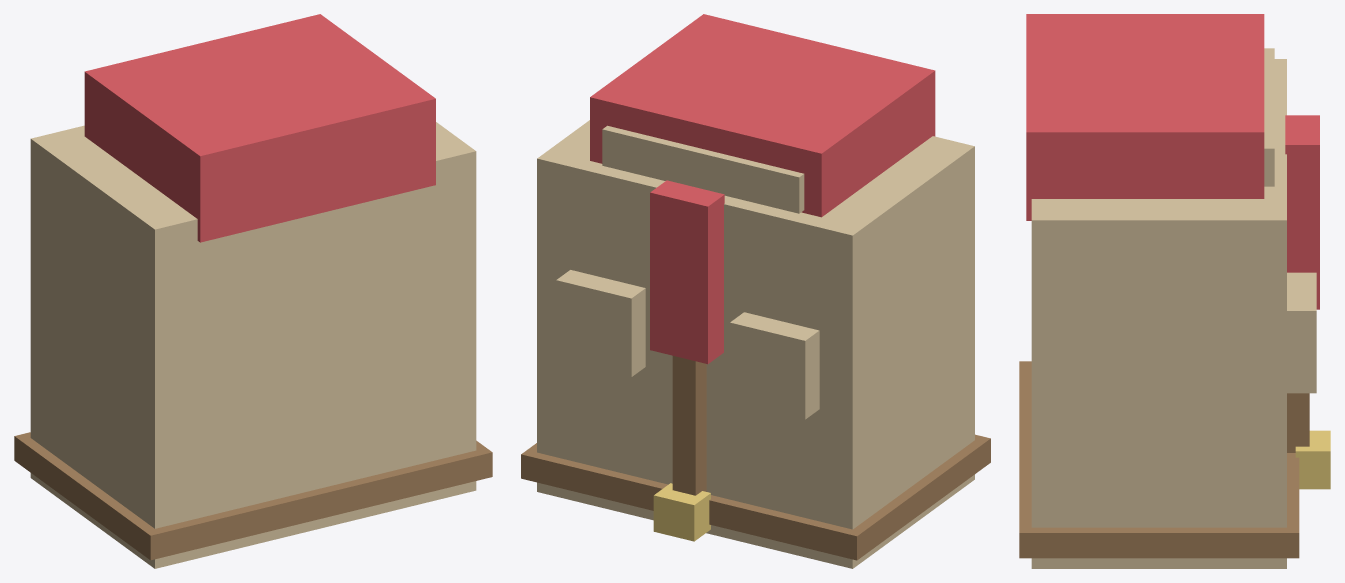
File: escoteiro_tronco.glb
3 renders of one model, left to right at view 1: azimuth 30°, elevation 25°; view 2: azimuth 150°, elevation 25°; view 3: azimuth 270°, elevation 25°, orthographic. The views are drawn at different scales.
Visible parts, largest first — view 1: escoteiro_tronco; view 2: escoteiro_tronco; view 3: escoteiro_tronco.
Part boxes in pixels (bbox=[...]): escoteiro_tronco: bbox=[14, 14, 492, 568]; escoteiro_tronco: bbox=[521, 14, 990, 568]; escoteiro_tronco: bbox=[1019, 14, 1330, 568].
Bounding box in the file's own units: 0.58 × 0.655 × 0.445.
